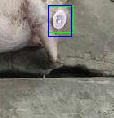text: (48, 6, 73, 32)
